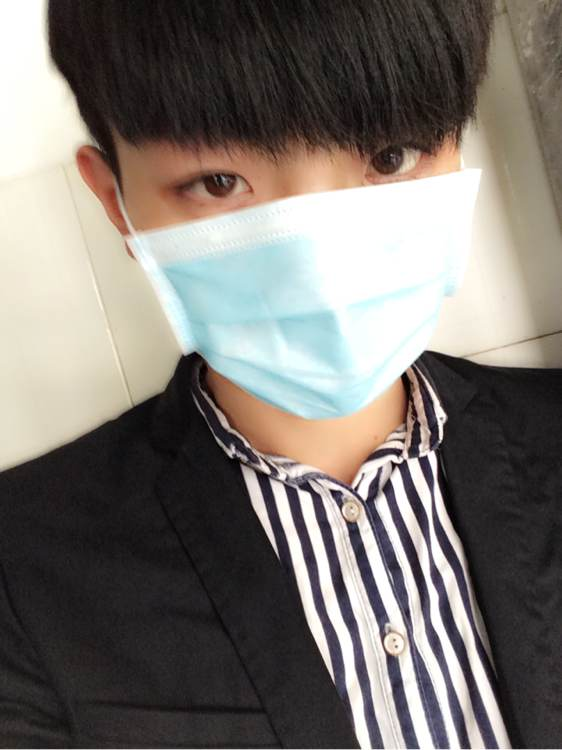face_mask: (121, 0, 456, 423)
